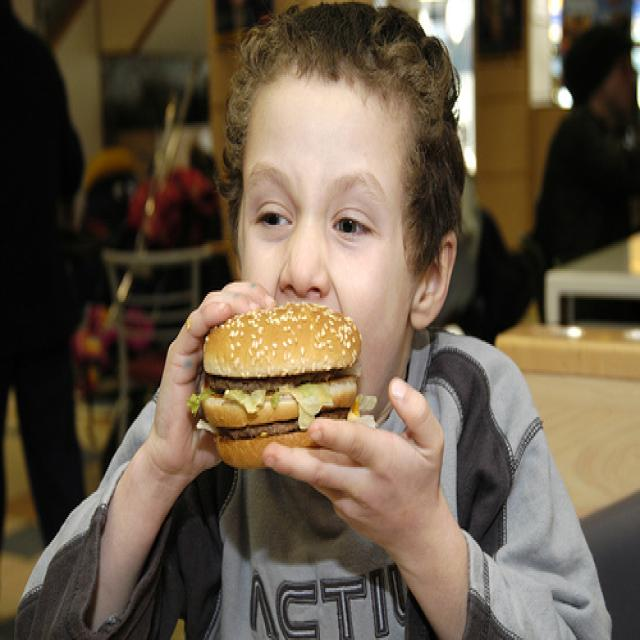diningtable: (544, 233, 640, 324)
person: (13, 1, 614, 639), (1, 1, 88, 555), (535, 22, 640, 320)
